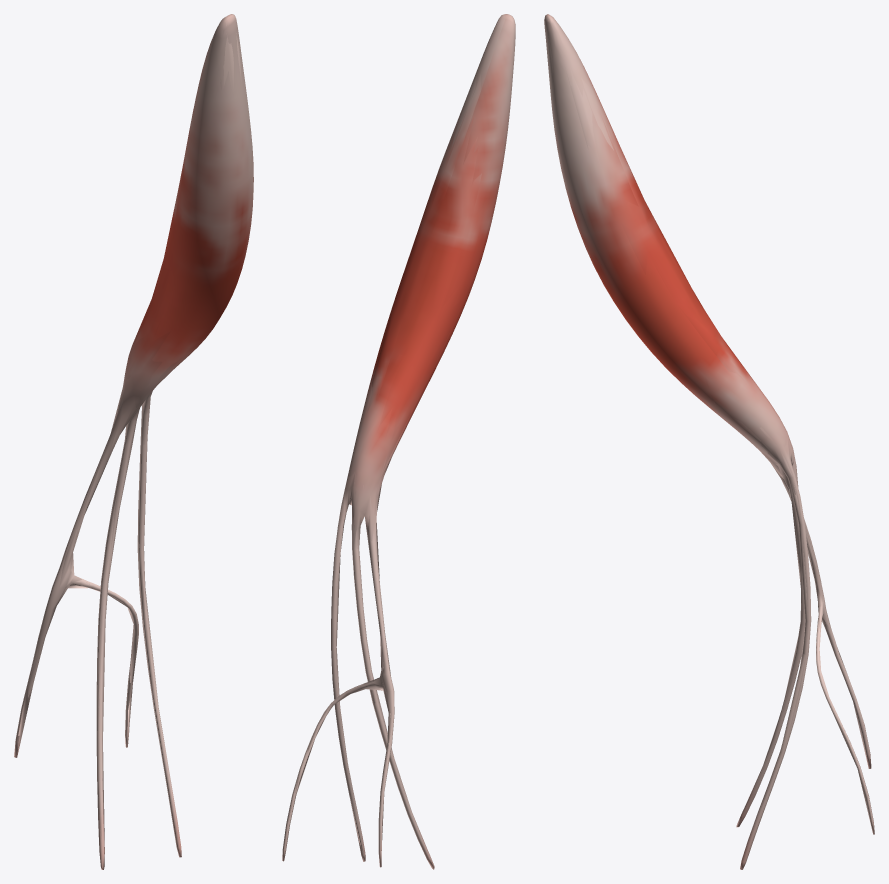
File: R Long Digital Extensor.fbx
The picture shows the model from 3 angles, left to right: view 1: azimuth 30°, elevation 25°; view 2: azimuth 150°, elevation 25°; view 3: azimuth 270°, elevation 25°; orthographic projection. The views are drawn at different scales.
Parts seen in each view (by area): view 1: R Long Digital Extensor, R Long Digital Extensor low; view 2: R Long Digital Extensor, R Long Digital Extensor low; view 3: R Long Digital Extensor, R Long Digital Extensor low.
Part boxes in pixels (bbox=[...]): R Long Digital Extensor: bbox=[14, 14, 253, 869]; R Long Digital Extensor low: bbox=[17, 17, 252, 848]; R Long Digital Extensor: bbox=[282, 14, 515, 869]; R Long Digital Extensor low: bbox=[287, 15, 512, 853]; R Long Digital Extensor: bbox=[544, 14, 874, 869]; R Long Digital Extensor low: bbox=[546, 16, 872, 856].
Size of the model in its own units: 3.01 by 23.36 by 8.44.
